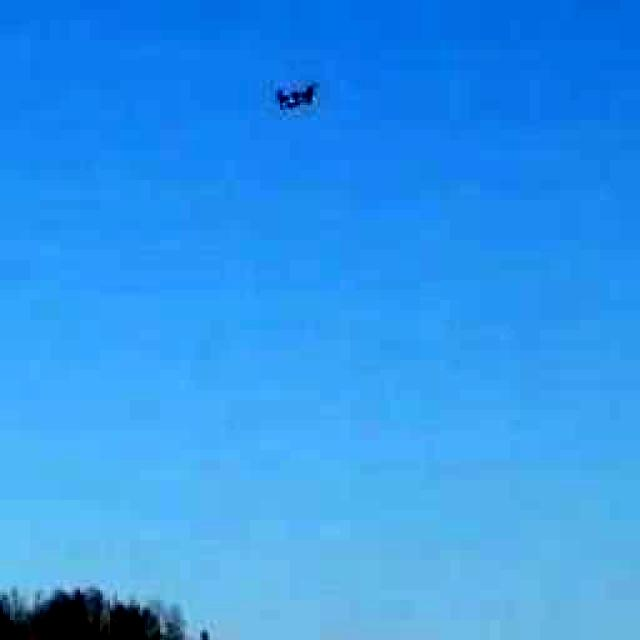bird: (256, 61, 344, 126)
